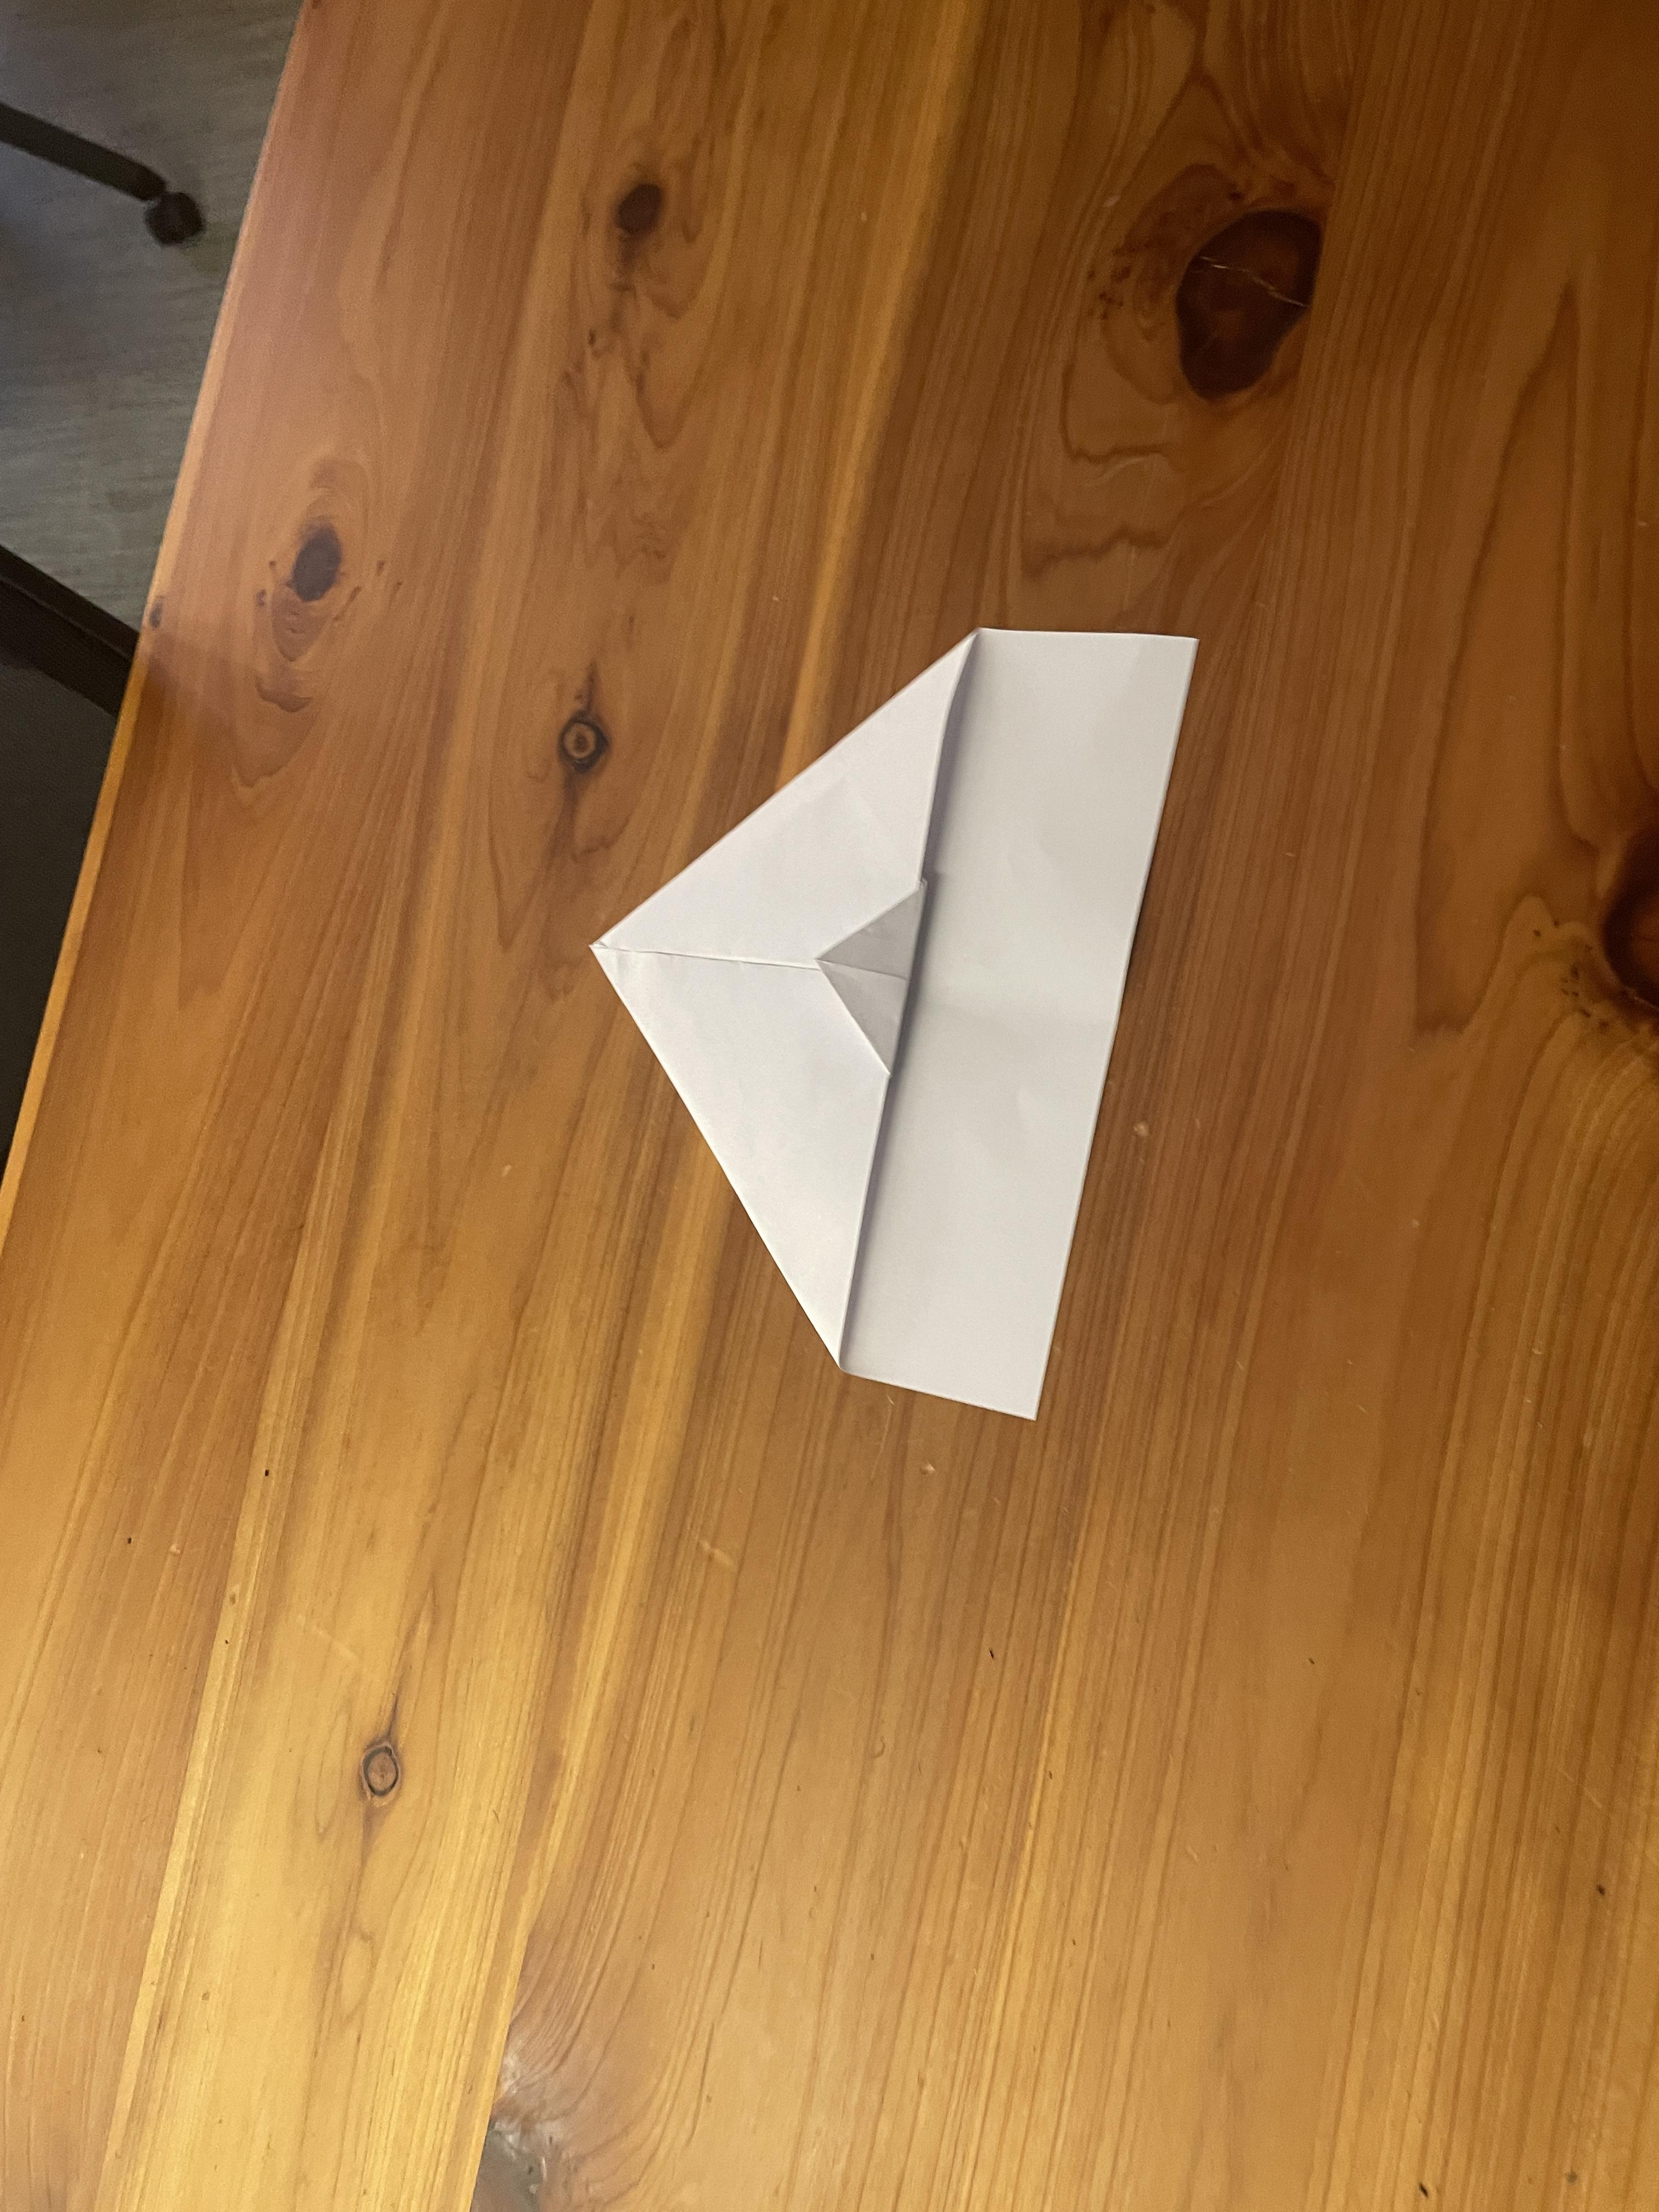shape_2: (505, 374, 1281, 1569)
